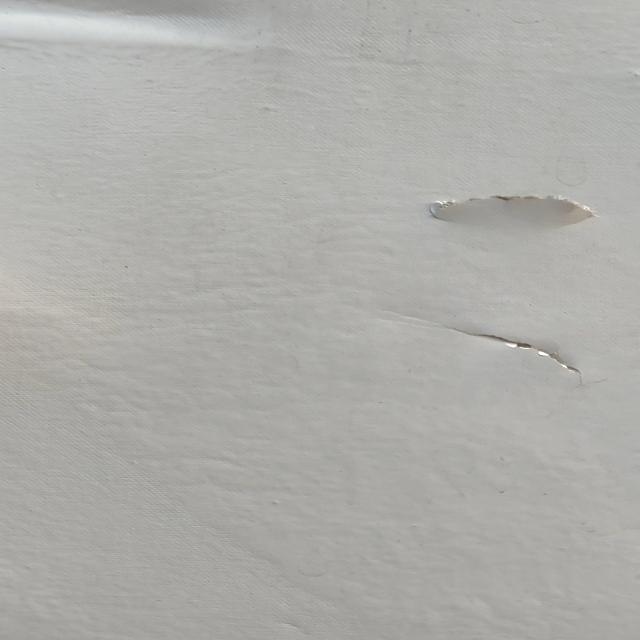Dents or Deformation: (1, 1, 321, 68)
Scratches: (420, 306, 640, 386), (394, 165, 640, 235)
